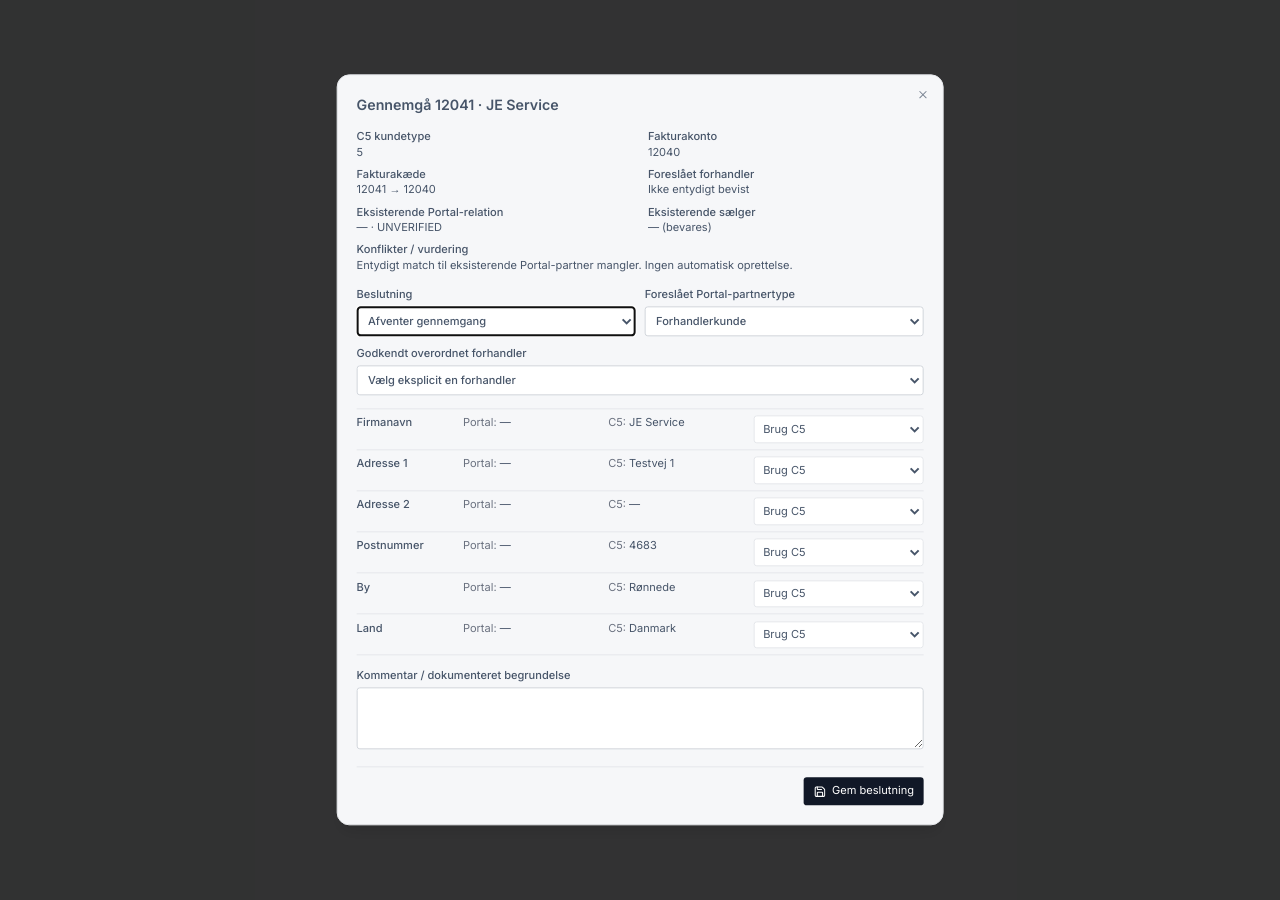
Test: separate Backend review decisions › requires documented reason and explicit parent before approval
Select "Godkendt til import" in the dropdown labelled "Beslutning". click: (496, 321)
box: [357, 306, 635, 336]
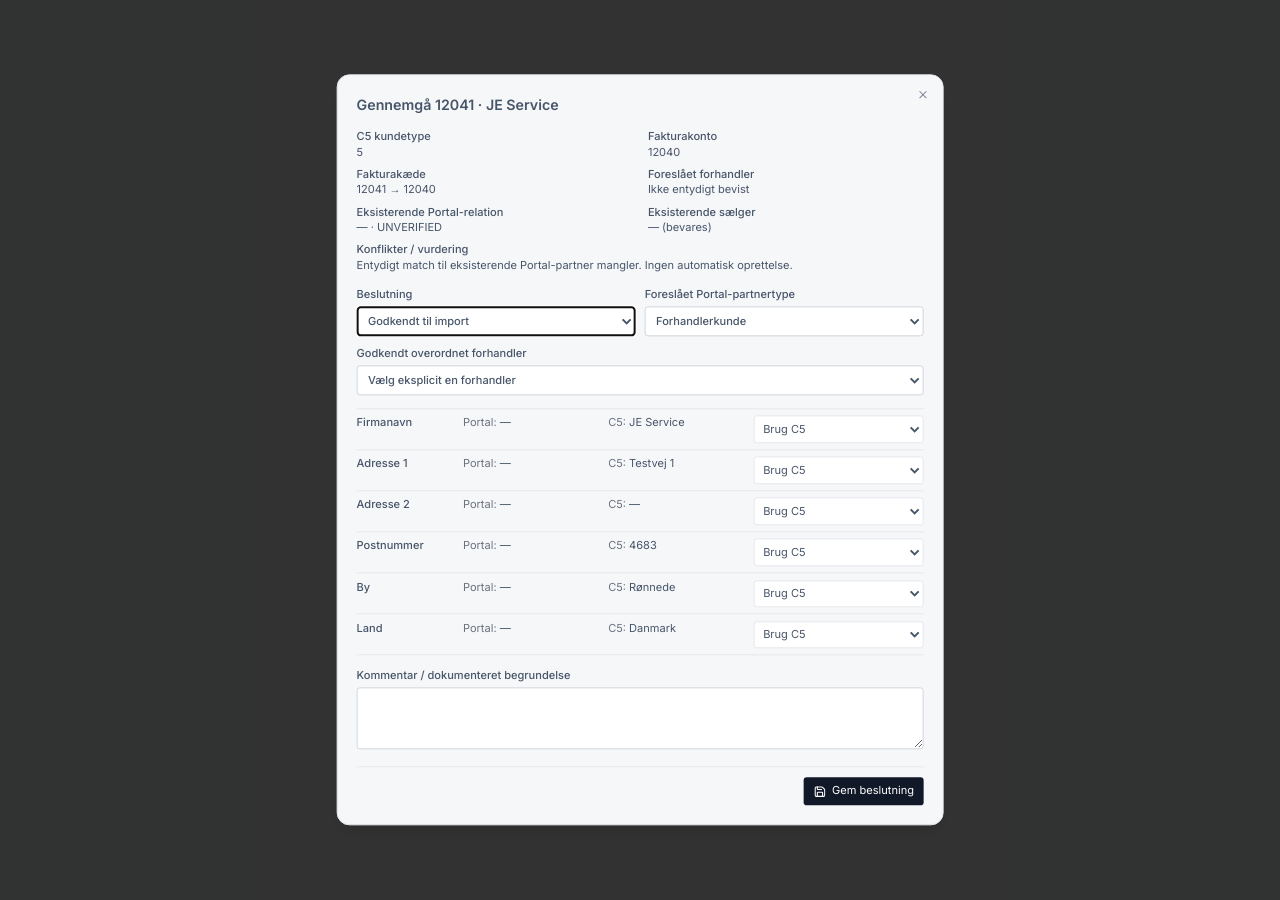
Click the button "Gem beslutning". click: (864, 792)
box: [804, 777, 923, 806]
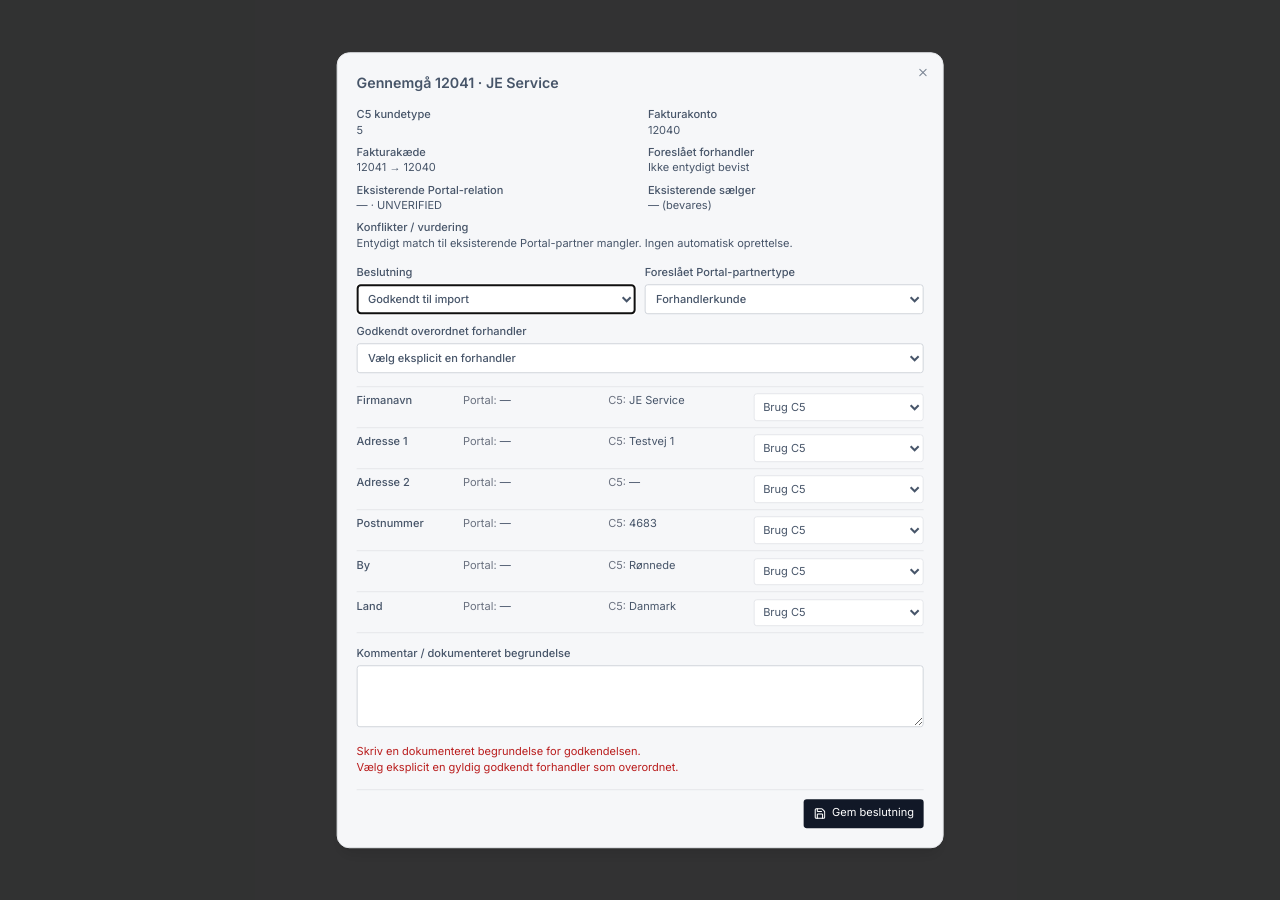
Result: the message shows "begrundelse" at [357, 745, 641, 759]
